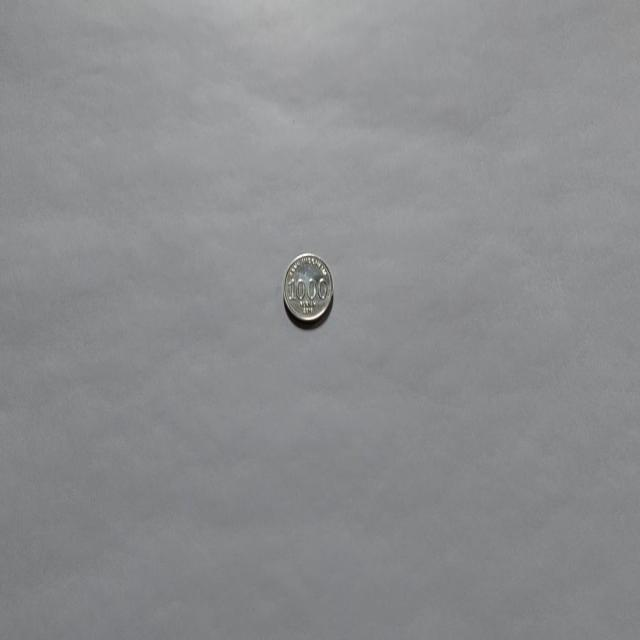seribu rupiah koin: (282, 250, 334, 326)
